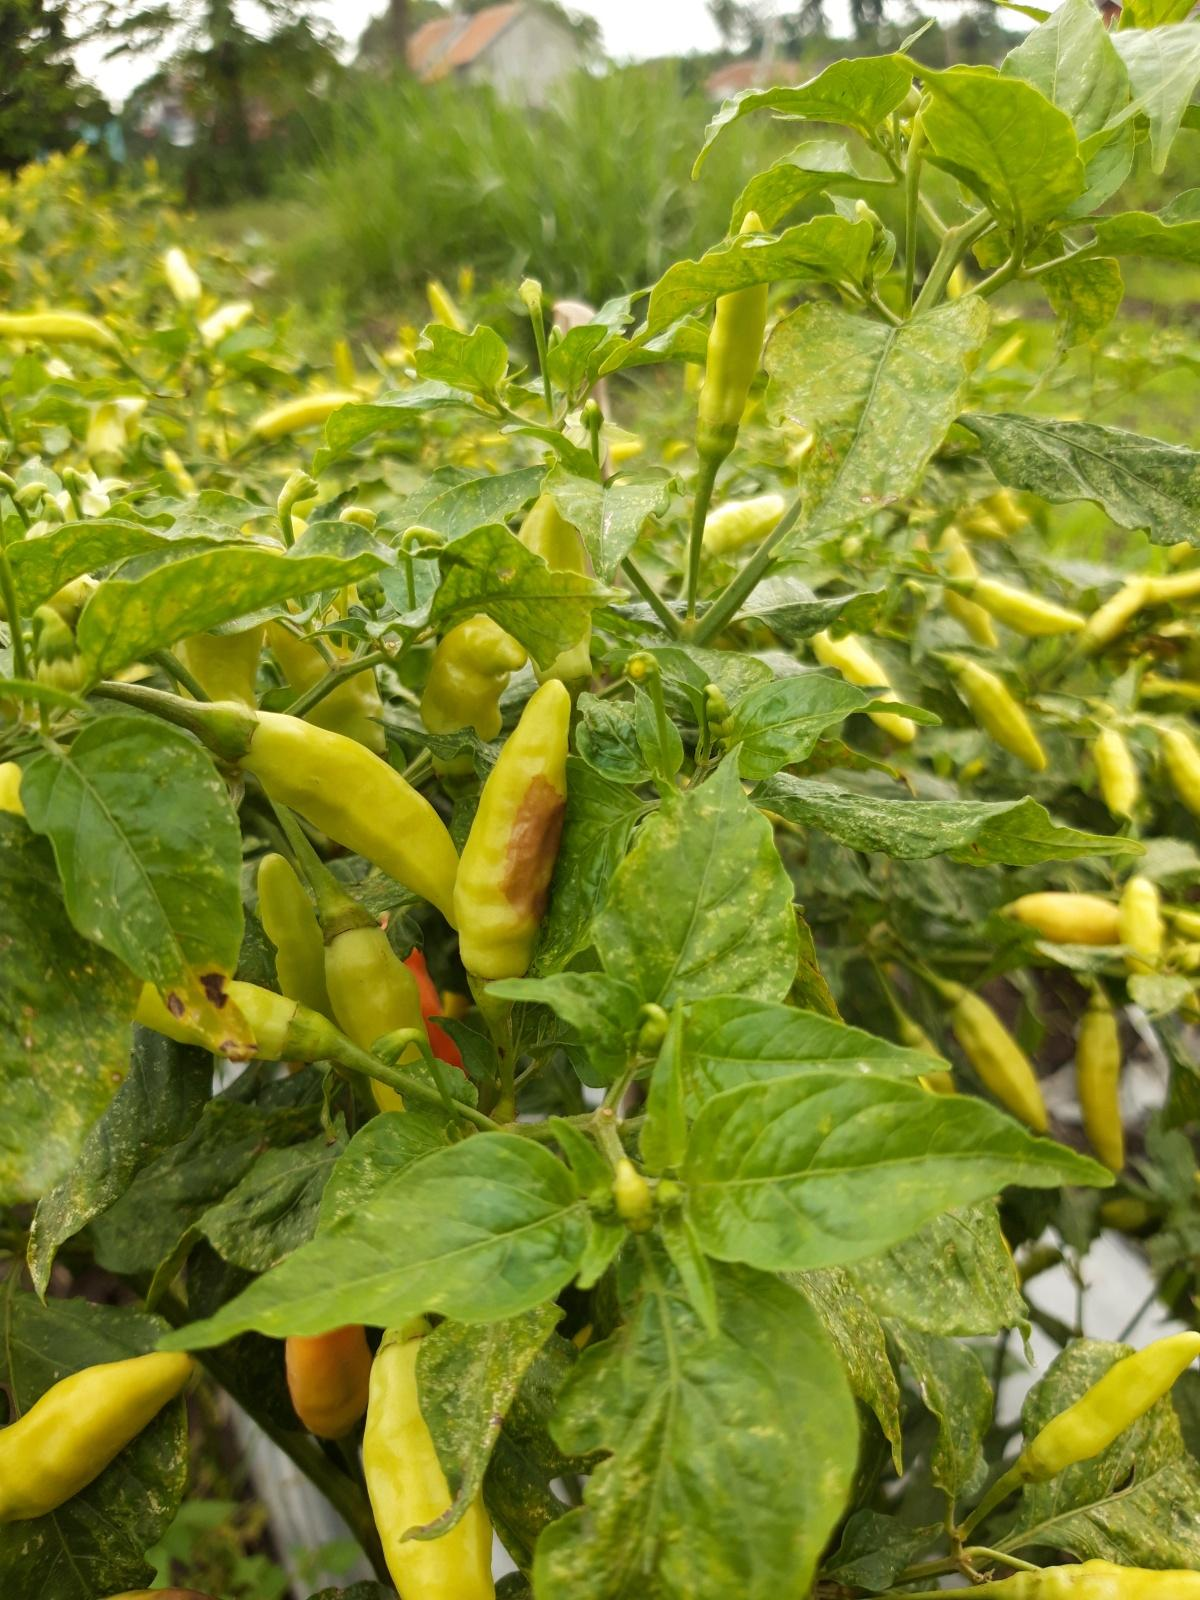cabai_normal: (197, 698, 461, 939), (361, 1324, 498, 1600), (0, 1351, 195, 1524), (1022, 1329, 1200, 1478), (935, 976, 1050, 1133), (696, 214, 771, 449), (808, 625, 918, 741), (952, 655, 1049, 771), (1074, 989, 1128, 1175), (945, 573, 1087, 643), (998, 889, 1123, 947), (1080, 574, 1153, 650), (1094, 728, 1142, 820), (1118, 876, 1162, 968)
lalat_buah: (453, 678, 571, 984)
